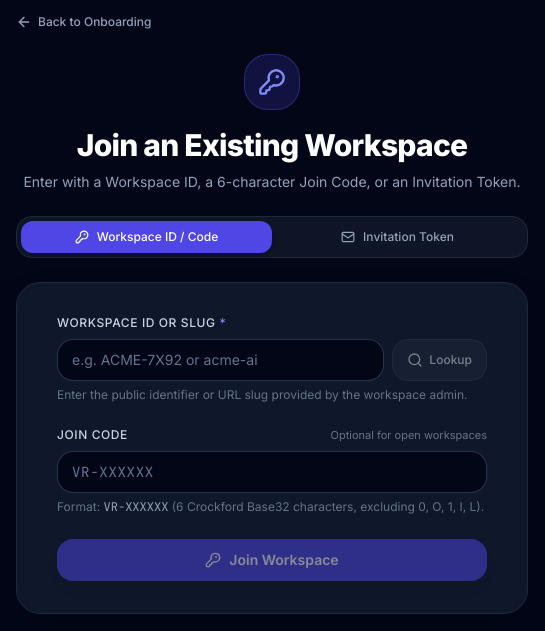
Test case: WS-A8: Create & Join Workspace Workflows › Join Workspace Workflow (/workspaces/join) › 9. Approval Mode: Renders PENDING_APPROVAL status without activating session or granting dashboard access
Type "STRICT-GOV" into the field labelled "Workspace ID or Slug *" at x=221, y=360, box [57, 339, 384, 381]
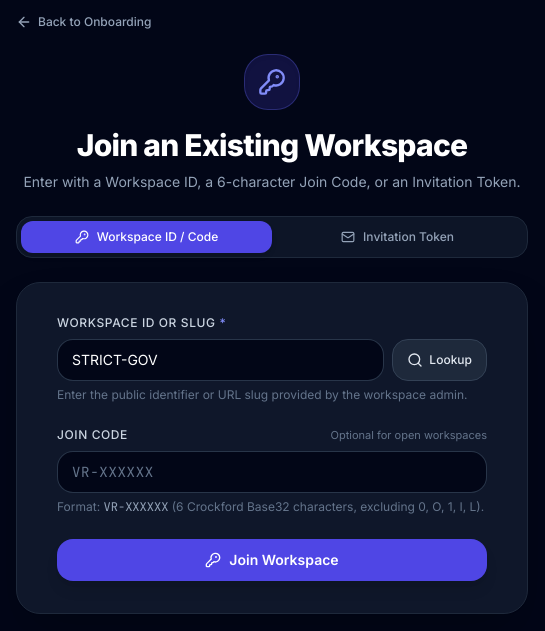
Click the button "Join Workspace" at x=272, y=560, box [57, 539, 487, 581]
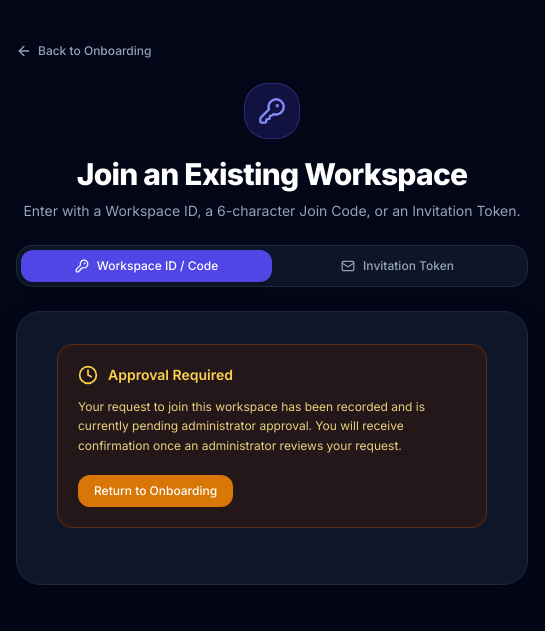
Result: the text "Approval Required" is shown at [108, 365, 233, 385]
Result: the text "pending administrator approval" is shown at [78, 399, 425, 453]
Result: the button "Return to Onboarding" is shown at [78, 475, 233, 507]
